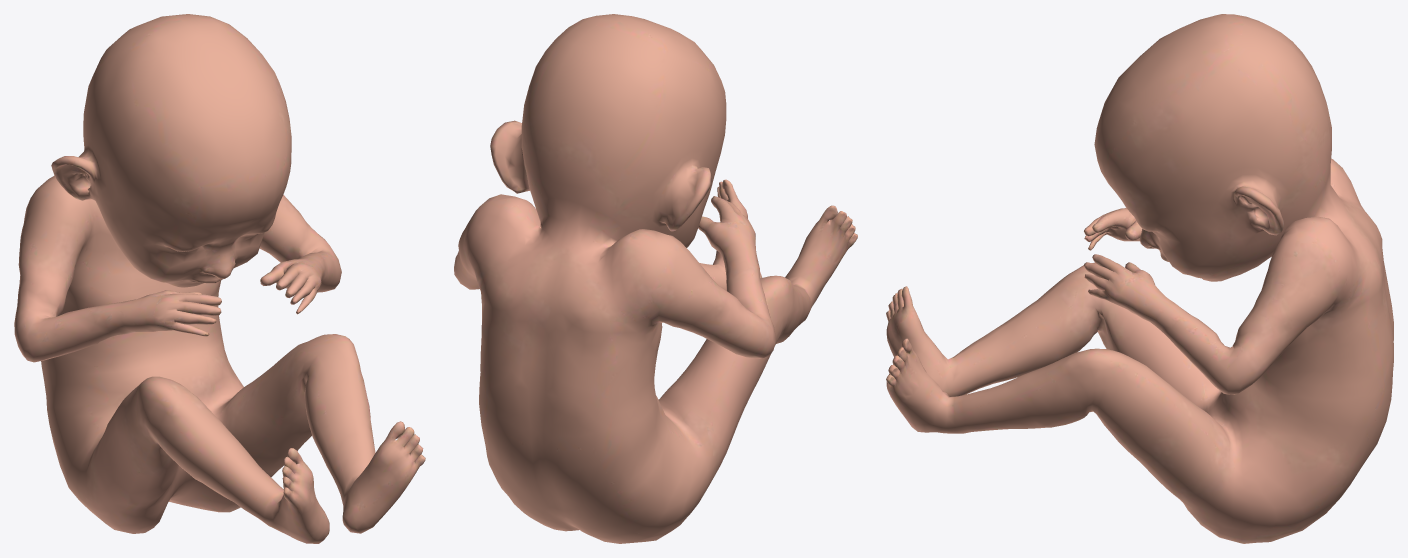
3 renders of one model, left to right at view 1: azimuth 30°, elevation 25°; view 2: azimuth 150°, elevation 25°; view 3: azimuth 270°, elevation 25°, orthographic.
Visible parts, largest first — view 1: Baby; view 2: Baby; view 3: Baby.
Part boxes in pixels (x1,y1,x2,y2): Baby: (14,14,425,543); Baby: (454,14,857,543); Baby: (886,14,1393,543).
Bounding box in the file's own units: 0.2111 × 0.3196 × 0.2961.
1 material, 1 textured.
